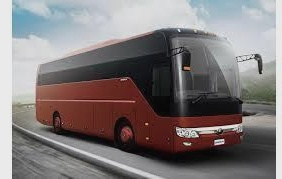bus: (35, 28, 261, 155)
